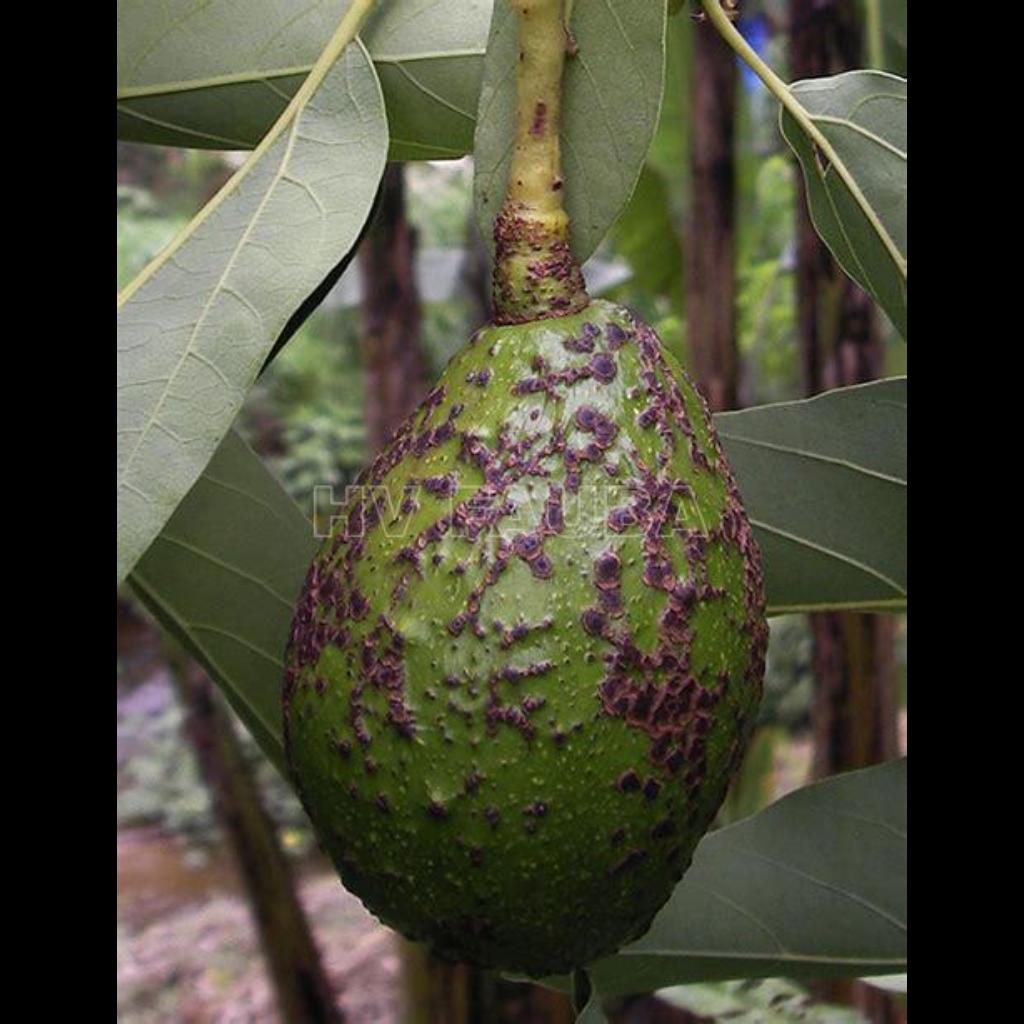cercospora_spot: (286, 284, 796, 980)
